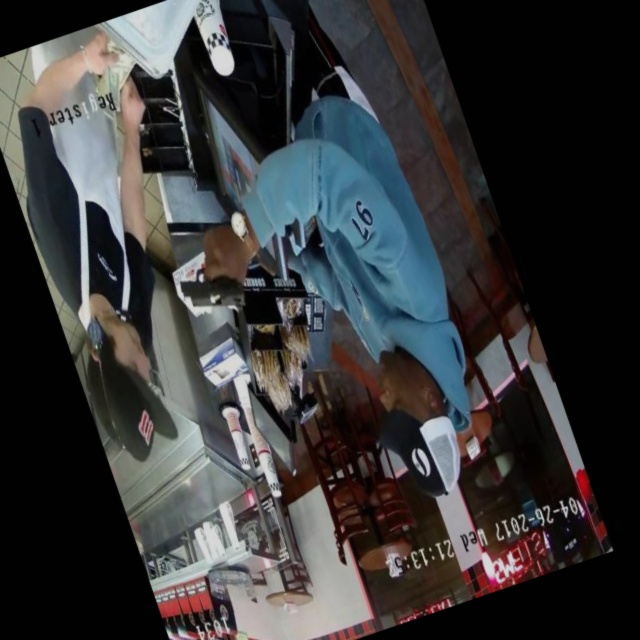gun: (165, 235, 271, 349)
